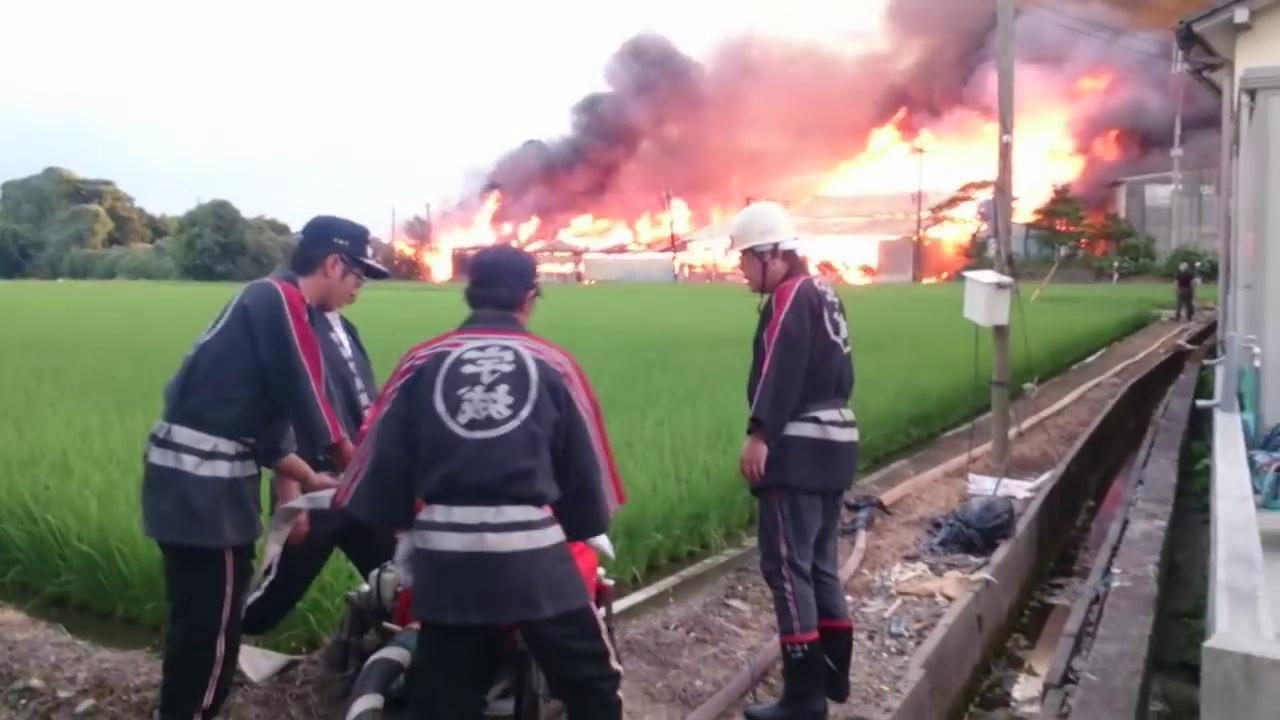Fire: (682, 115, 1001, 288), (1011, 102, 1108, 219), (397, 190, 501, 279), (556, 196, 687, 252), (515, 217, 542, 252)
